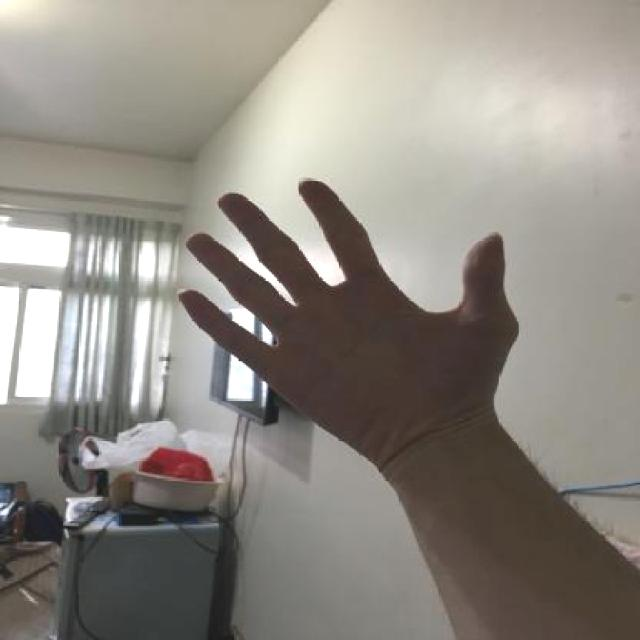no_glove: (158, 160, 536, 465)
